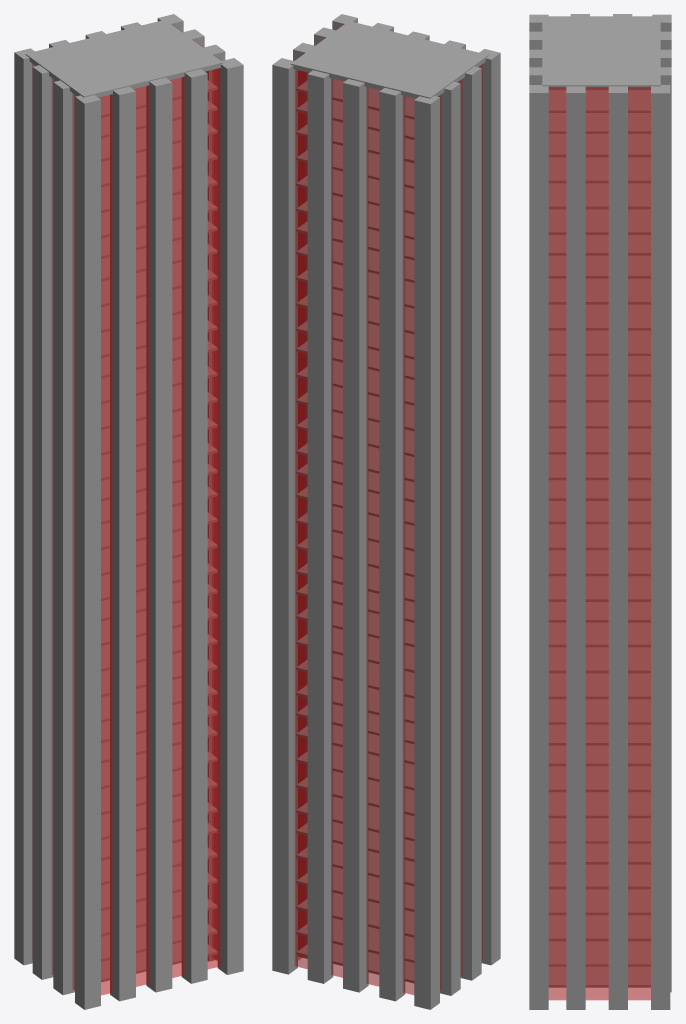
Rendered from Building_1.fbx.
3 renders of one model, left to right at view 1: azimuth 30°, elevation 25°; view 2: azimuth 150°, elevation 25°; view 3: azimuth 270°, elevation 25°, orthographic.
Visible parts, largest first — view 1: Building_1; view 2: Building_1; view 3: Building_1.
Part boxes in pixels (<box>): Building_1: <box>14,14,243,1009</box>; Building_1: <box>272,14,500,1009</box>; Building_1: <box>529,14,671,1009</box>.
Bounding box in the file's own units: 13.55 × 73.28 × 10.29.
